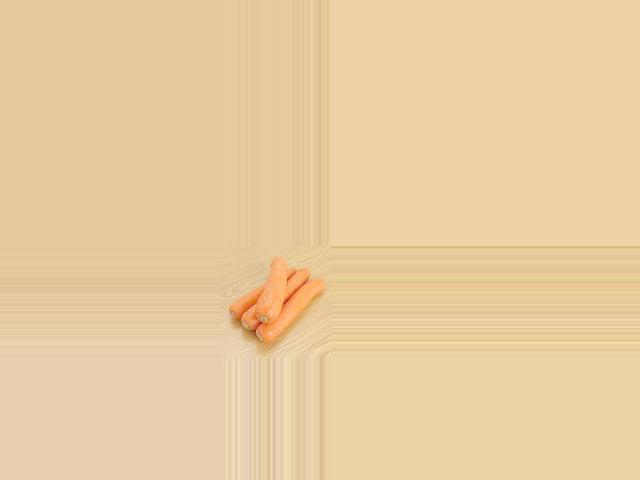carrot: (222, 272, 279, 322)
